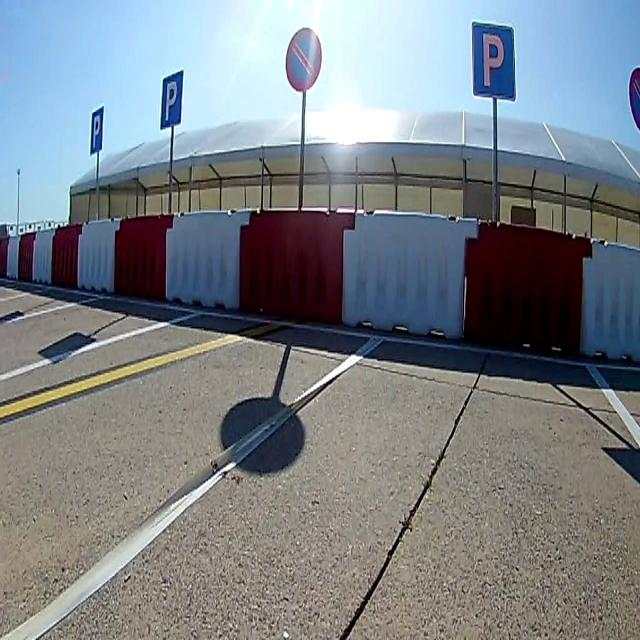park: (475, 22, 515, 102), (162, 72, 181, 128), (91, 108, 102, 153)
parkyasak: (286, 29, 322, 91)
